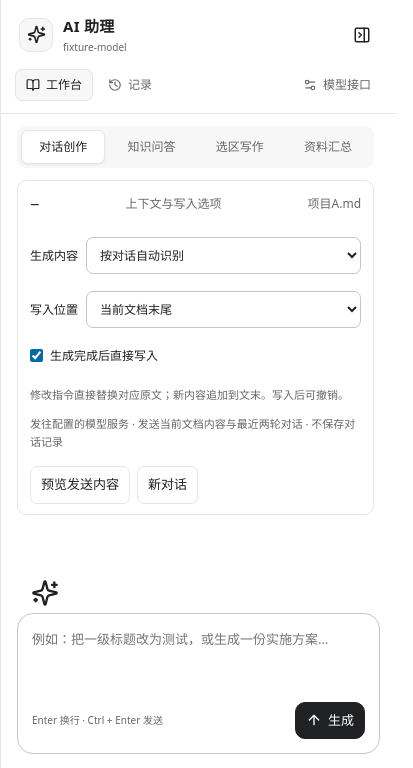
AI workspace › supports draft-only creation and blocks malformed whiteboard data
Expected: the text "fixture-model" is shown, [63,39,127,55]
Select "白板卡片" in the dropdown labelled "生成内容" at (224, 256), box [86,237,361,274]
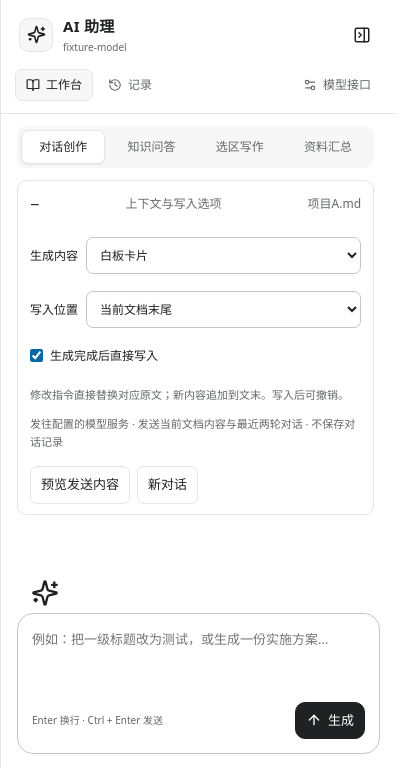
Click the checkbox labelled "生成完成后直接写入" at (36, 356), box [30,349,43,362]
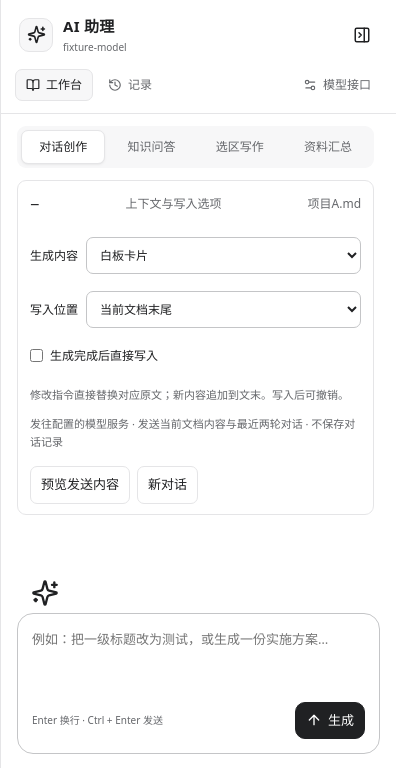
Click the button "生成" at (330, 720), box [295,702,365,739]
(page scrolled)
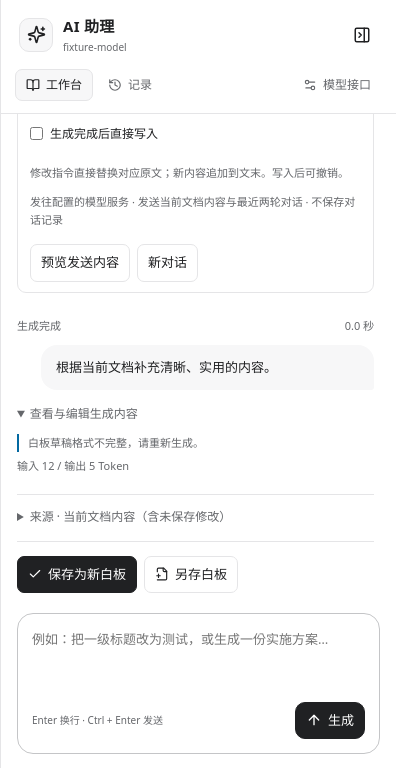
Click the button "另存白板" at (191, 574), box [144,556,238,593]
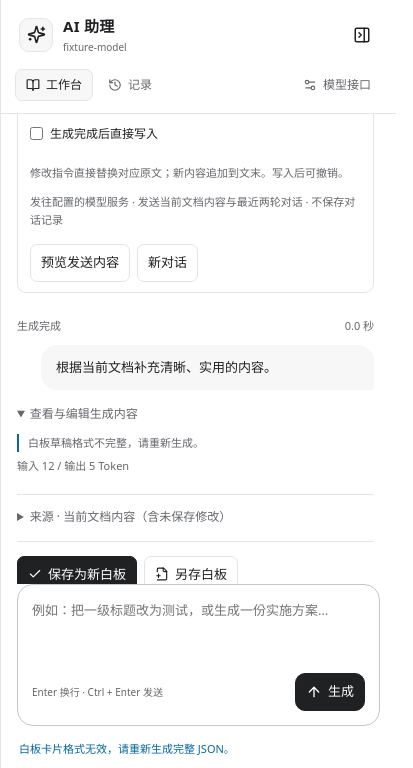
Now the text "白板卡片格式无效，请重新生成完整 JSON。" is shown, box [1,740,396,767]
